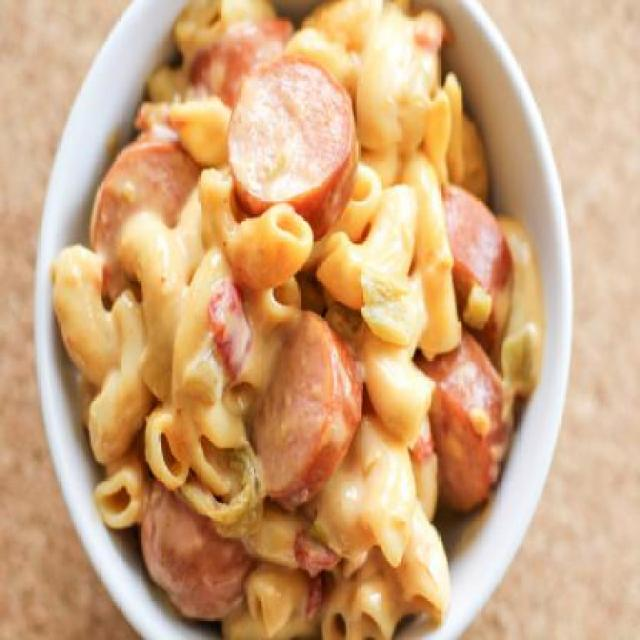hot dog: (198, 29, 362, 503), (432, 175, 512, 500), (86, 120, 196, 280), (142, 475, 249, 613)
